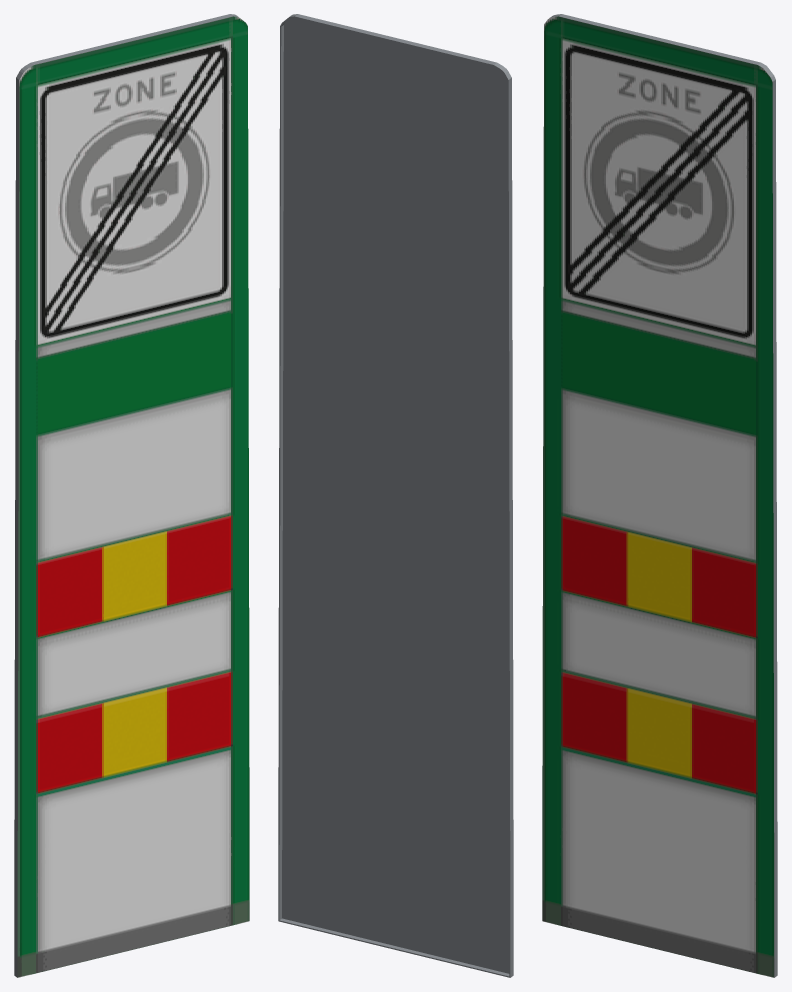
3 renders of one model, left to right at view 1: azimuth 30°, elevation 25°; view 2: azimuth 150°, elevation 25°; view 3: azimuth 330°, elevation 25°, orthographic.
Visible parts, largest first — view 1: cat_773ba28cdb03c577; view 2: cat_773ba28cdb03c577; view 3: cat_773ba28cdb03c577.
Part boxes in pixels (x1,y1,x2,y2): cat_773ba28cdb03c577: (14, 14, 249, 977); cat_773ba28cdb03c577: (278, 14, 513, 977); cat_773ba28cdb03c577: (542, 14, 777, 977).
Size of the model in its own units: 0.6 by 0.015 by 2.24.
2 materials, 1 textured.
